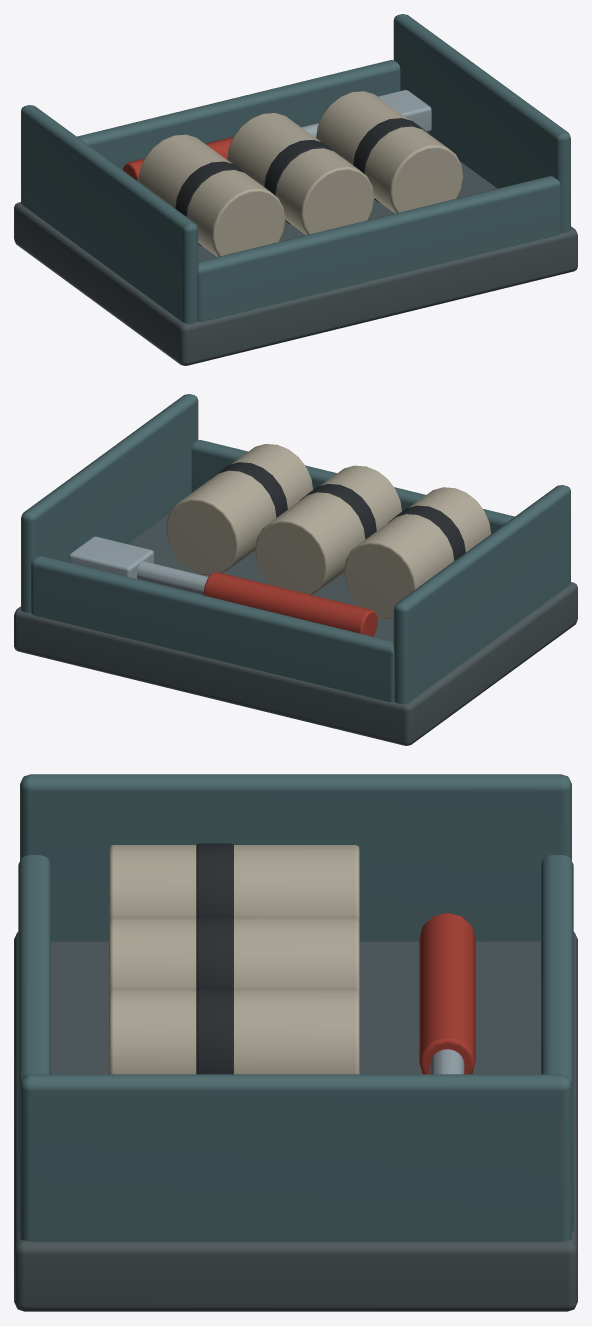
The model's file is HF2_SpillKit.fbx.
The picture shows the model from 3 angles, top to bottom: view 1: azimuth 30°, elevation 25°; view 2: azimuth 150°, elevation 25°; view 3: azimuth 270°, elevation 25°; orthographic projection. The views are drawn at different scales.
Visible parts, largest first — view 1: HF2_SpillKit; view 2: HF2_SpillKit; view 3: HF2_SpillKit.
Part boxes in pixels (x1,y1,x2,y2): HF2_SpillKit: (14, 14, 577, 365); HF2_SpillKit: (14, 394, 577, 745); HF2_SpillKit: (14, 774, 577, 1311).
Size of the model in its own units: 51 by 17.05 by 38.
